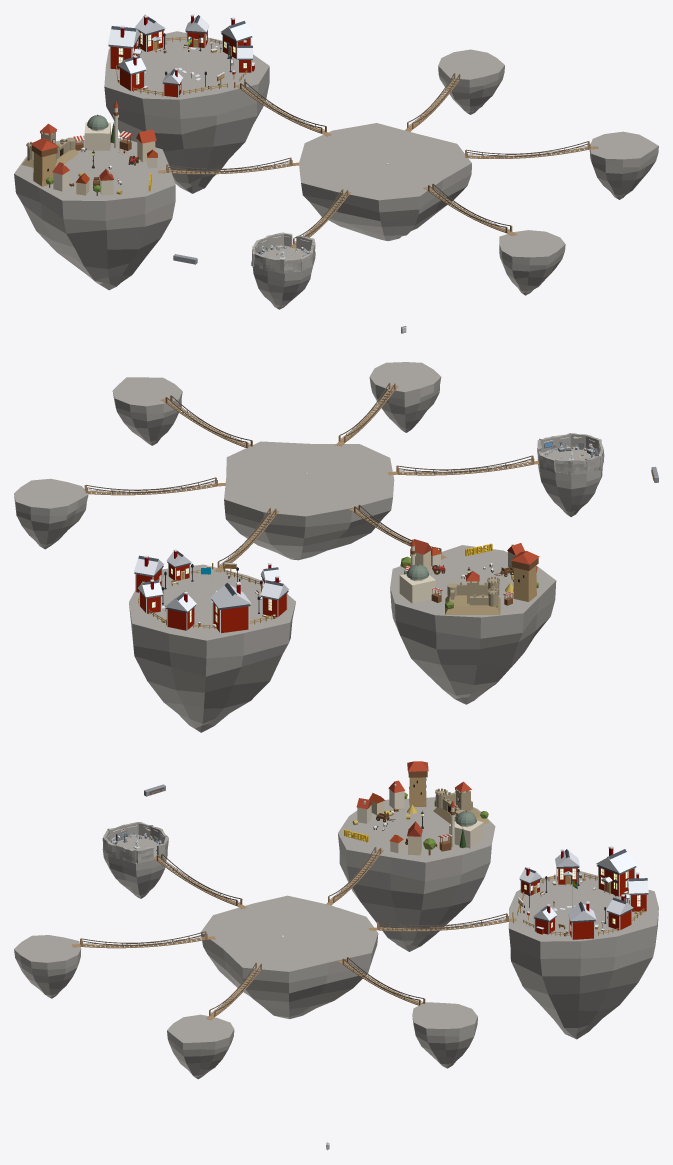
The picture shows the model from 3 angles, top to bottom: view 1: azimuth 30°, elevation 25°; view 2: azimuth 150°, elevation 25°; view 3: azimuth 270°, elevation 25°; orthographic projection. The views are drawn at different scales.
Parts seen in each view (by area): view 1: island_rock_arm_2, island_rock_core, island_rock_arm_3, island_rock_arm_0, island_rock_arm_5, island_rock_arm_1, lab_rock, susp_bridge_3, susp_bridge_0, susp_bridge_2, susp_bridge_5, Mosque_Hall (+3 smaller); view 2: island_rock_core, island_rock_arm_2, island_rock_arm_3, island_rock_arm_1, island_rock_arm_5, island_rock_arm_0, lab_rock, susp_bridge_4, susp_bridge_1, body, Mosque_Hall, susp_bridge_0 (+6 smaller); view 3: island_rock_core, island_rock_arm_2, island_rock_arm_3, island_rock_arm_1, island_rock_arm_0, island_rock_arm_5, lab_rock, susp_bridge_2, susp_bridge_5, susp_bridge_4, susp_bridge_1, Mosque_Hall (+2 smaller).
Boxes of the visible parts, bbox=[...] form: island_rock_arm_2: bbox=[104, 31, 269, 193]; island_rock_core: bbox=[299, 123, 471, 241]; island_rock_arm_3: bbox=[14, 135, 175, 290]; island_rock_arm_0: bbox=[589, 131, 658, 199]; island_rock_arm_5: bbox=[499, 230, 565, 295]; island_rock_arm_1: bbox=[438, 49, 504, 114]; lab_rock: bbox=[252, 245, 315, 309]; susp_bridge_3: bbox=[158, 157, 298, 174]; susp_bridge_0: bbox=[464, 141, 598, 158]; susp_bridge_2: bbox=[235, 81, 331, 136]; susp_bridge_5: bbox=[423, 183, 516, 235]; Mosque_Hall: bbox=[84, 122, 110, 150]; island_rock_core: bbox=[224, 441, 394, 560]; island_rock_arm_2: bbox=[129, 564, 295, 732]; island_rock_arm_3: bbox=[390, 545, 556, 704]; island_rock_arm_1: bbox=[14, 478, 88, 549]; island_rock_arm_5: bbox=[369, 362, 441, 432]; island_rock_arm_0: bbox=[112, 377, 182, 445]; lab_rock: bbox=[537, 447, 603, 516]; susp_bridge_4: bbox=[388, 455, 538, 475]; susp_bridge_1: bbox=[84, 477, 225, 495]; body: bbox=[213, 602, 248, 633]; Mosque_Hall: bbox=[399, 574, 435, 603]; susp_bridge_0: bbox=[161, 395, 253, 448]; island_rock_core: bbox=[200, 895, 378, 1018]; island_rock_arm_2: bbox=[508, 871, 658, 1039]; island_rock_arm_3: bbox=[338, 797, 495, 951]; island_rock_arm_1: bbox=[412, 1002, 477, 1068]; island_rock_arm_0: bbox=[167, 1014, 234, 1079]; island_rock_arm_5: bbox=[14, 935, 81, 998]; lab_rock: bbox=[102, 835, 167, 898]; susp_bridge_2: bbox=[369, 913, 516, 931]; susp_bridge_5: bbox=[72, 931, 215, 948]; susp_bridge_4: bbox=[153, 853, 246, 908]; susp_bridge_1: bbox=[337, 957, 425, 1005]; Mosque_Hall: bbox=[449, 820, 483, 848].
Bounding box in the file's own units: 158 × 71.1 × 173.
